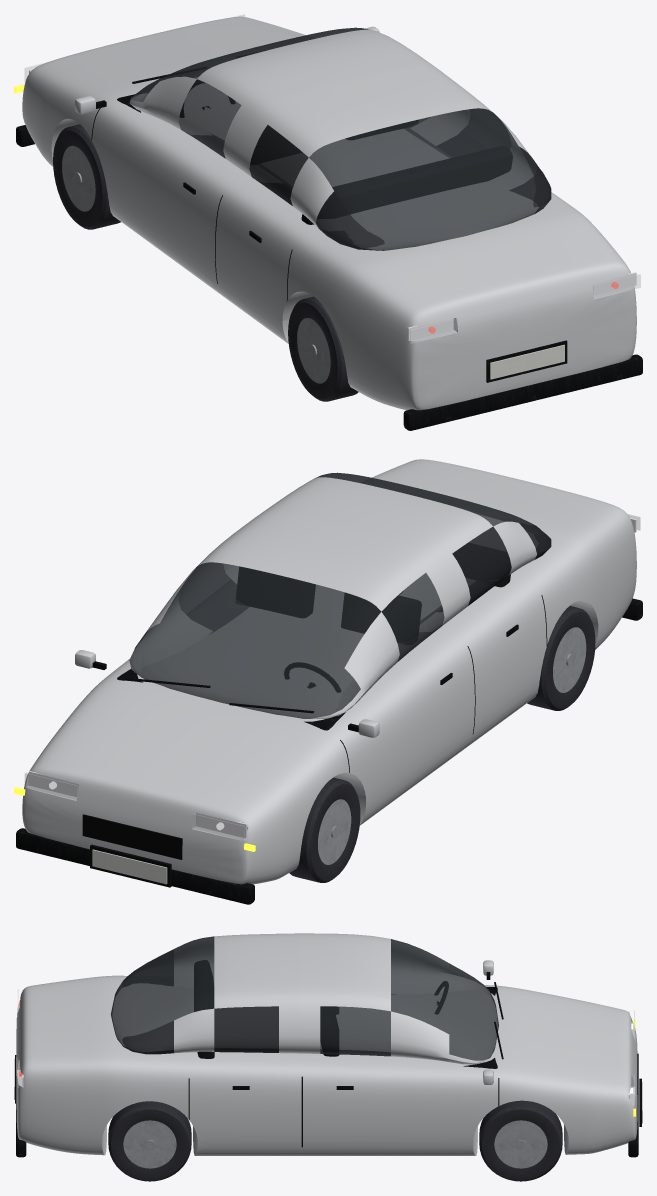
Rendered from saloon_silver.gltf.
The picture shows the model from 3 angles, top to bottom: view 1: azimuth 30°, elevation 25°; view 2: azimuth 150°, elevation 25°; view 3: azimuth 270°, elevation 25°; orthographic projection. The views are drawn at different scales.
Parts seen in each view (by area): view 1: saloon_silver; view 2: saloon_silver; view 3: saloon_silver.
Boxes of the visible parts, x1,y1,x2,y2 form: saloon_silver: (14, 14, 642, 430); saloon_silver: (14, 459, 642, 904); saloon_silver: (14, 933, 642, 1181).
Bounding box in the file's own units: 2.11 × 1.46 × 4.83.
17 materials, 8 textured.
